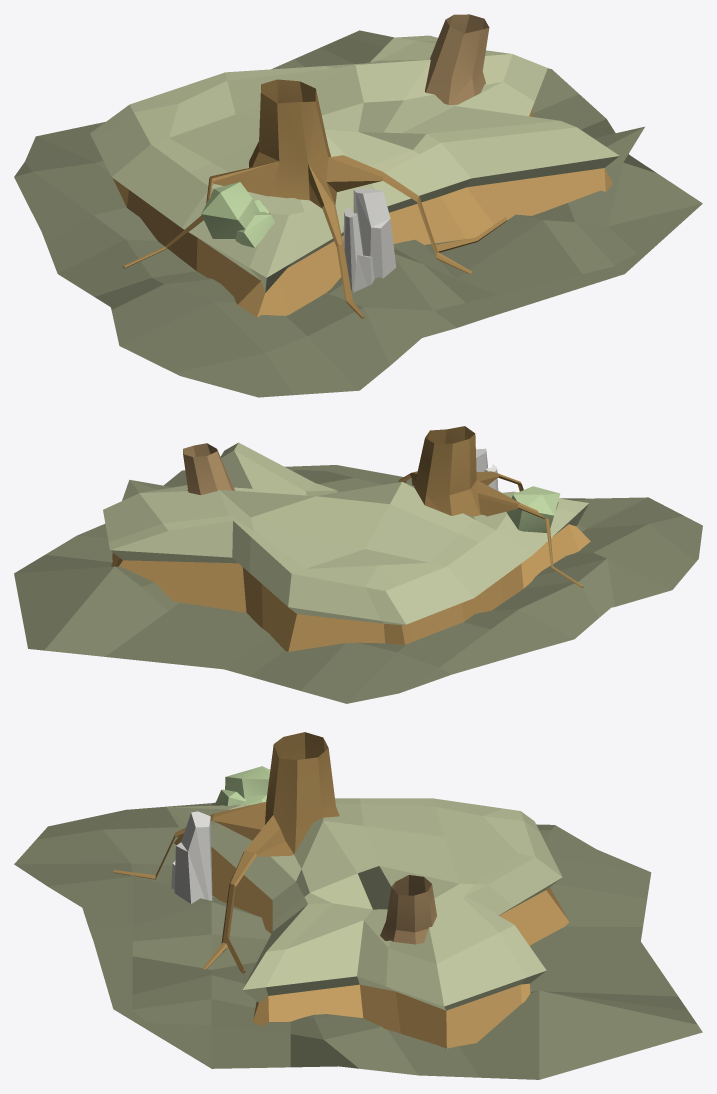
3 renders of one model, top to bottom at view 1: azimuth 30°, elevation 25°; view 2: azimuth 150°, elevation 25°; view 3: azimuth 270°, elevation 25°, orthographic. The views are drawn at different scales.
Parts seen in each view (by area): view 1: Scene_2; view 2: Scene_2; view 3: Scene_2.
Boxes of the visible parts, bbox=[...] form: Scene_2: bbox=[14, 14, 702, 397]; Scene_2: bbox=[14, 426, 702, 703]; Scene_2: bbox=[14, 732, 702, 1079].
Size of the model in its own units: 20.53 by 6.02 by 21.6.
